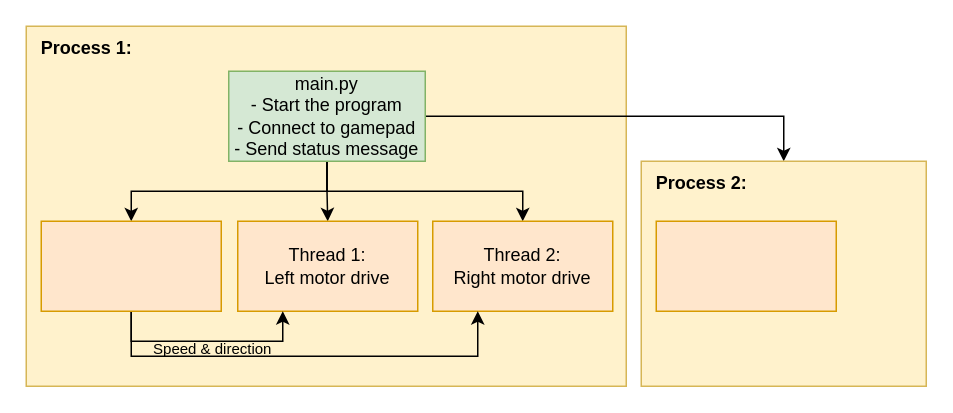
The diagram is 953 pixels wide and 413 high, and some of its shapes have lost their labels. The centre of each missing label's shape, as x and y in pixels:
camera.py video streaming part: the point at 745,265
While loop: Listen controller input Drive the servos: the point at 130,265
